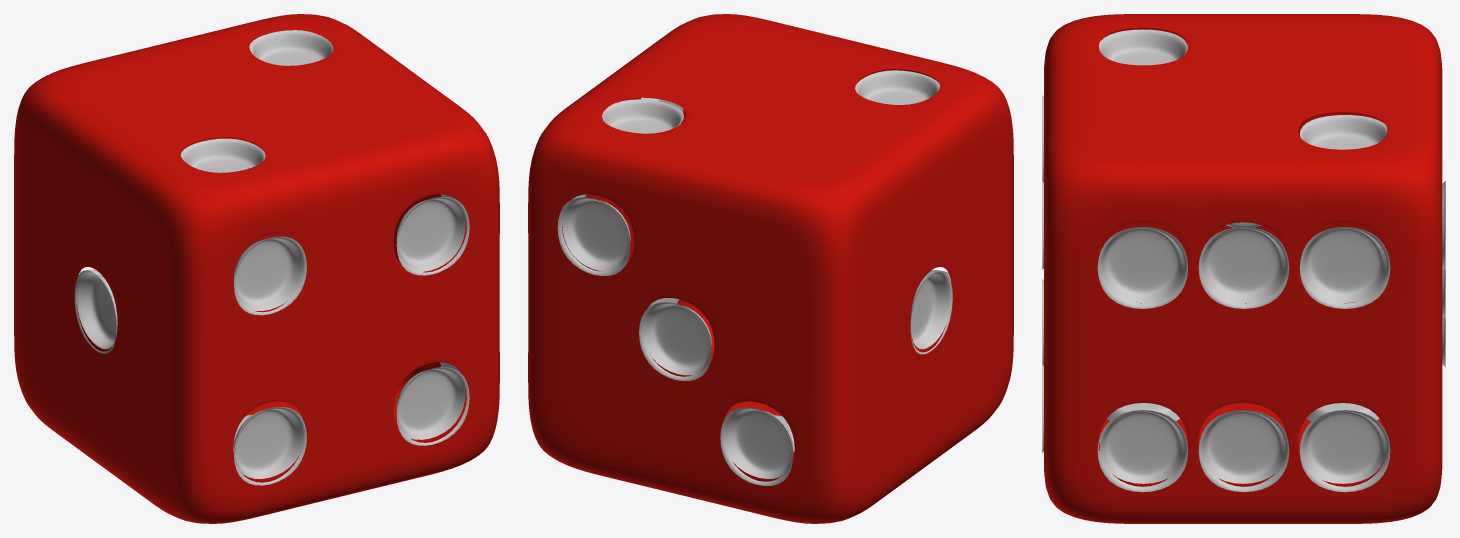
File: dice-3.glb
3 views of the same model, side by side, from view 1: azimuth 30°, elevation 25°; view 2: azimuth 150°, elevation 25°; view 3: azimuth 270°, elevation 25° (orthographic). The views are drawn at different scales.
Parts seen in each view (by area): view 1: Cube; view 2: Cube; view 3: Cube.
Boxes of the visible parts, box(x1,y1,x2,y2) form: Cube: box(14, 14, 499, 523); Cube: box(528, 14, 1013, 523); Cube: box(1042, 14, 1445, 523).
Size of the model in its own units: 1.42 by 1.43 by 1.42.
